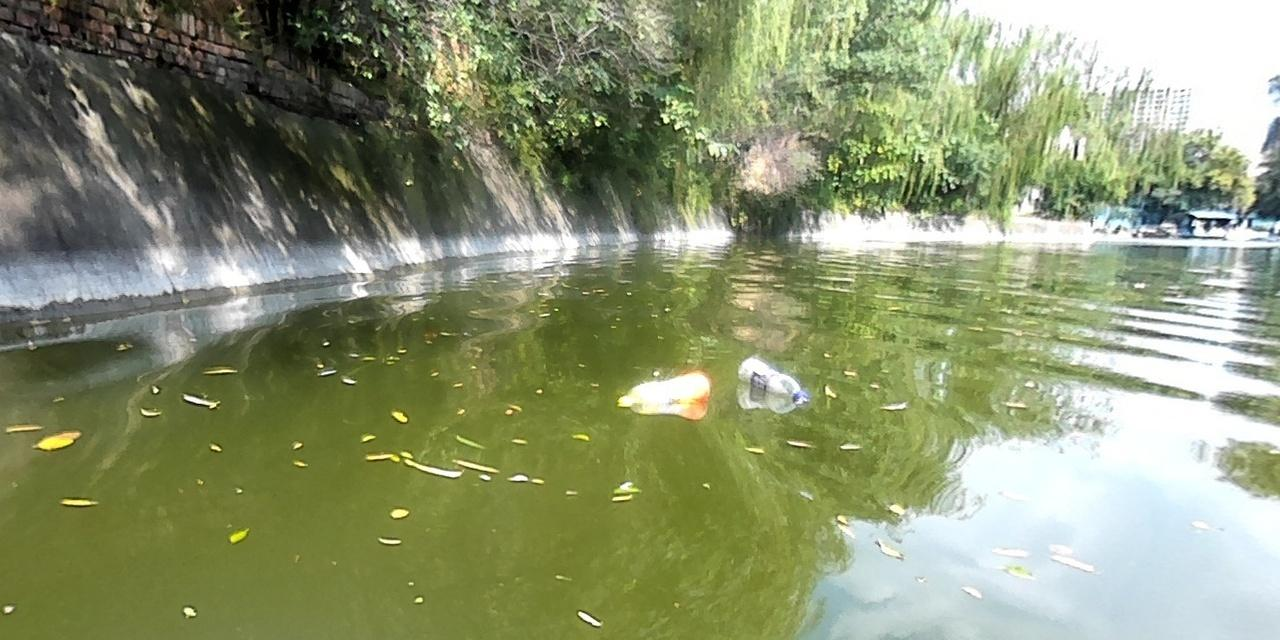bottle: (614, 367, 711, 403), (736, 356, 806, 401)
